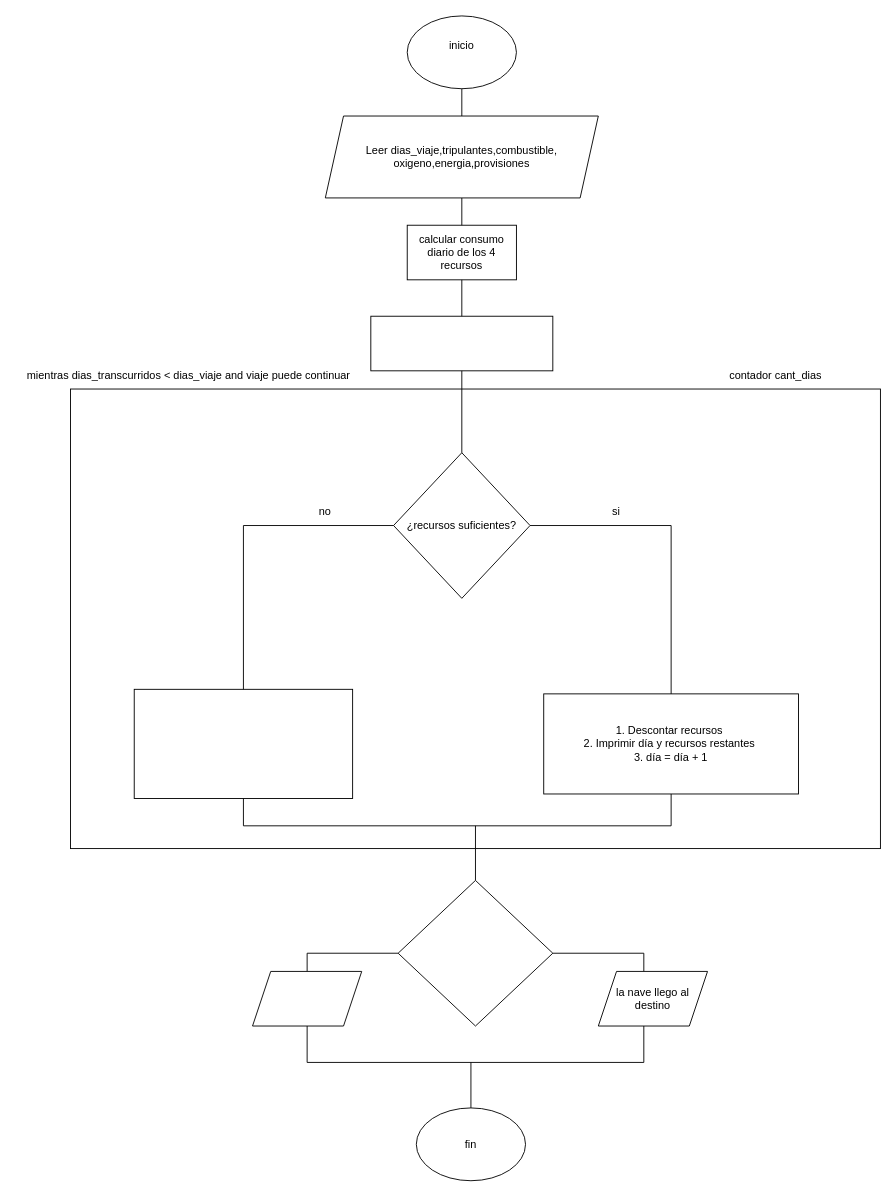
Image size: 896x1197. Some labels were removed from this diagram. Each missing label, with the centre of its shape:
continuar = falso Imprimir "Viaje interrumpido": (x=243, y=743)
dias_transcurridos = 0 viaje_puede_continuar = true: (x=461, y=343)
viaje interrumpido: (x=307, y=998)
¿el viaje completo todos los dias?: (x=475, y=953)
